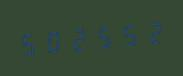five: (17, 26, 40, 60), (90, 20, 113, 54), (114, 18, 137, 51)
two: (66, 22, 89, 56), (138, 16, 161, 49)
zero: (41, 24, 64, 58)
